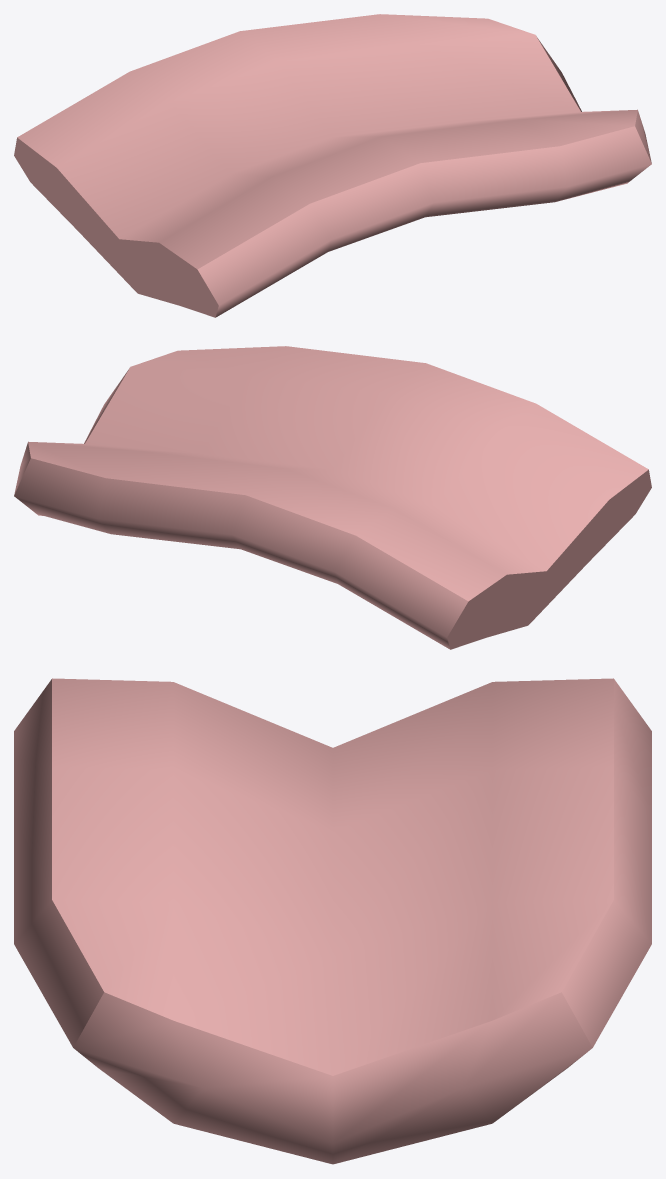
The model's file is Tongue.fbx.
The picture shows the model from 3 angles, top to bottom: view 1: azimuth 30°, elevation 25°; view 2: azimuth 150°, elevation 25°; view 3: azimuth 270°, elevation 25°; orthographic projection. The views are drawn at different scales.
Parts seen in each view (by area): view 1: ING_Tongue; view 2: ING_Tongue; view 3: ING_Tongue.
Part boxes in pixels (x1=…): ING_Tongue: x1=14, y1=14, x2=651, y2=317; ING_Tongue: x1=14, y1=346, x2=651, y2=649; ING_Tongue: x1=14, y1=678, x2=651, y2=1164.
Size of the model in its own units: 20.43 by 5.88 by 14.6.
